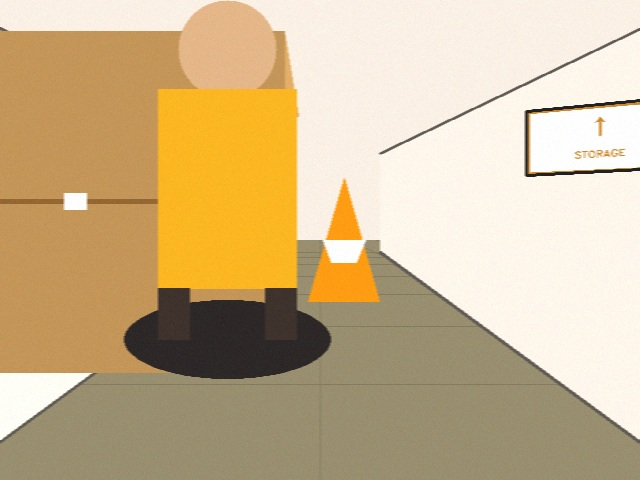box: (0, 31, 298, 372)
directional_sign: (526, 97, 639, 175)
obstacle: (308, 178, 379, 301)
person: (128, 0, 326, 339)
